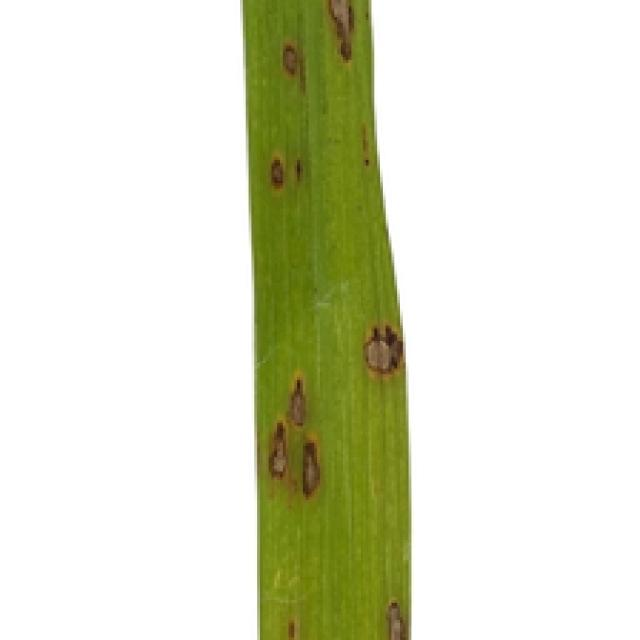Rice___Rice_Blast: (242, 0, 416, 637)
